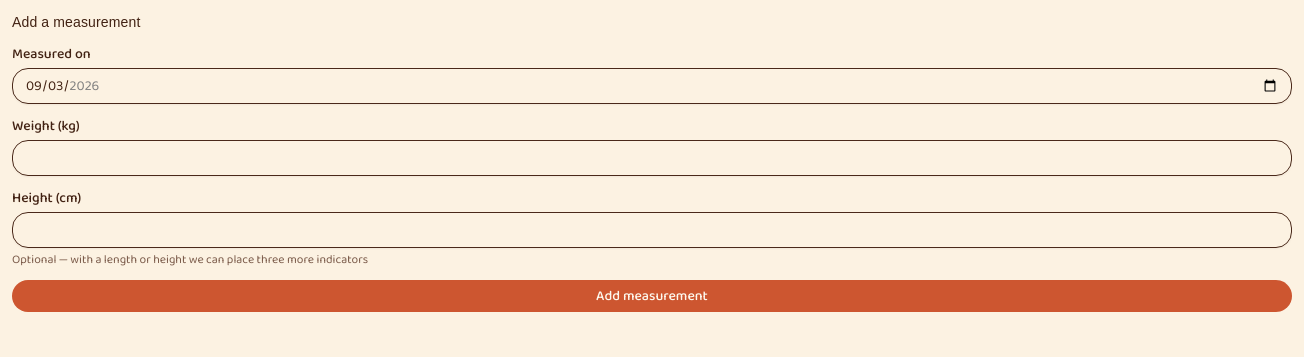
Scenario: LogMeasurementForm › refuses a date before the birth date
Type "2026-01-09" into the date field labelled "Measured on" at point(652, 86), box left=12, top=68, right=1292, bottom=104
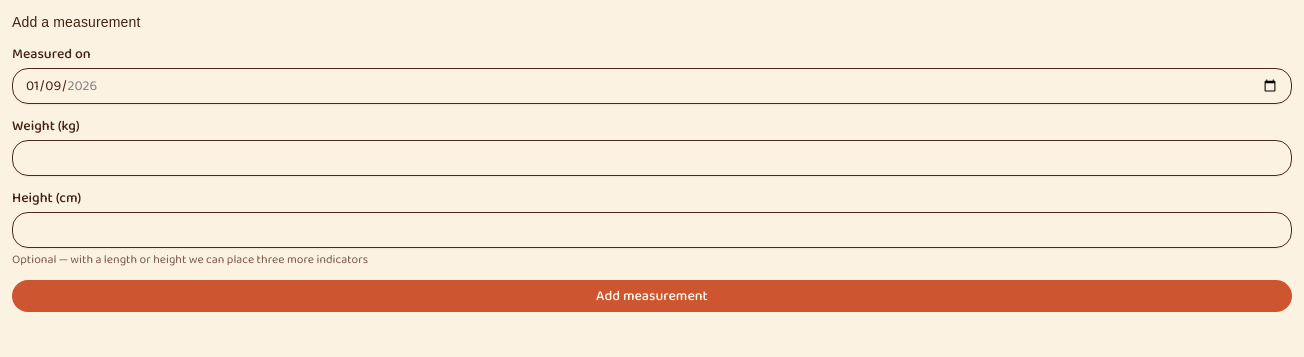
Type "3.5" into the number field labelled "Weight (kg)" at point(652, 158), box left=12, top=140, right=1292, bottom=176
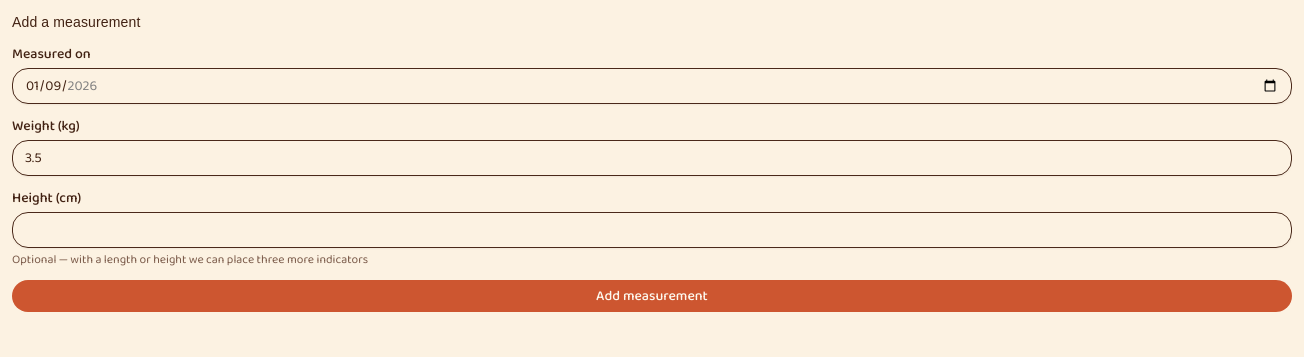
Click the button "Add measurement" at point(652, 296), box left=12, top=280, right=1292, bottom=312
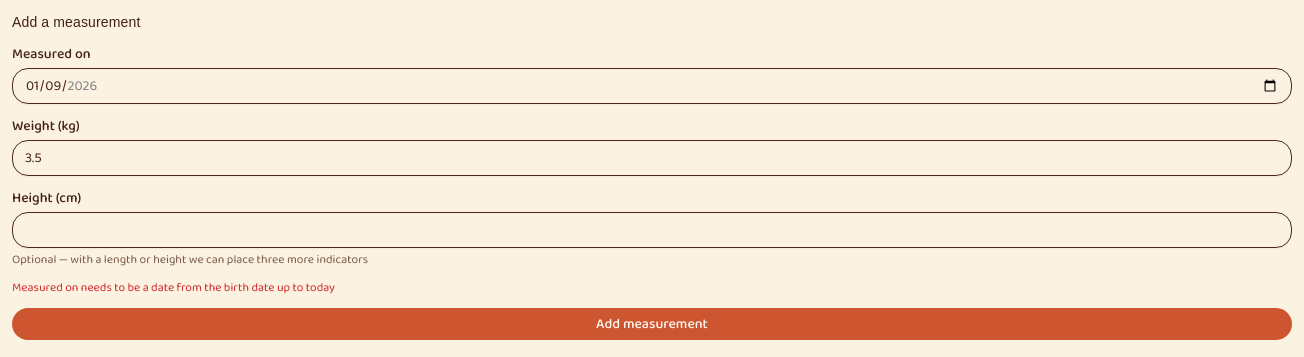
Expected: the message reads "Measured on needs to be a date from the birth date up to today", left=12, top=278, right=335, bottom=297
